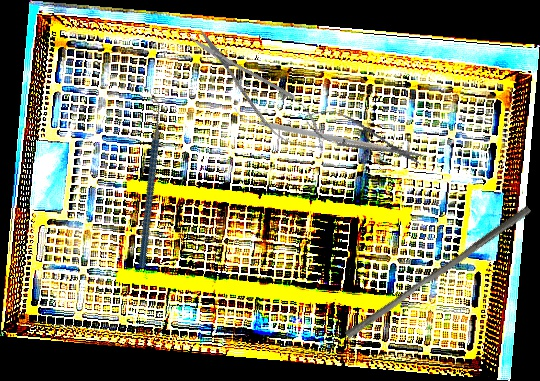Chopper: (81, 93, 213, 269), (233, 59, 394, 199)
Micro Scissor: (180, 17, 337, 165), (299, 101, 428, 176)
Pusher: (343, 198, 533, 346)
